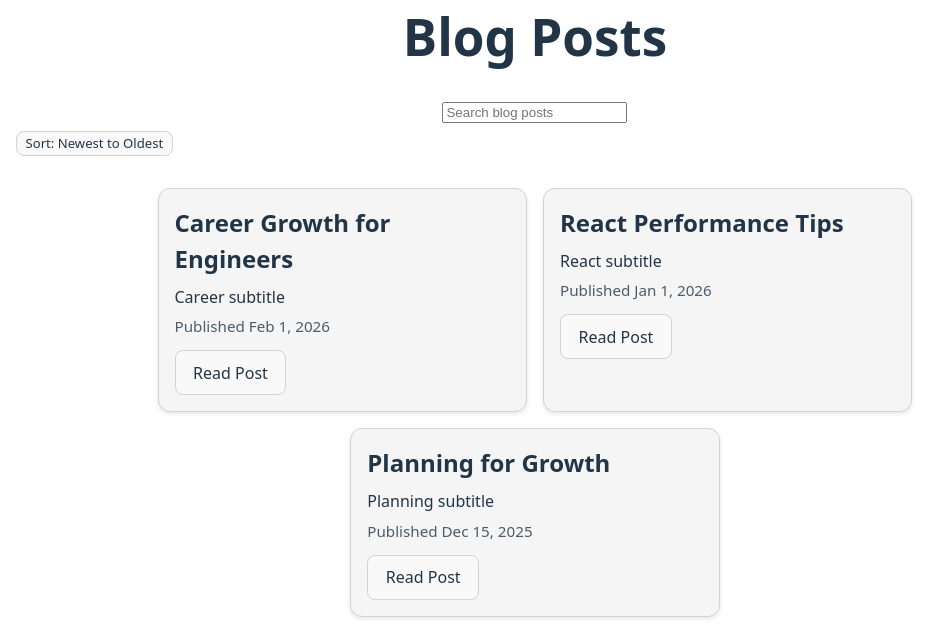
it: Blog › happy path: filters blog cards by title keyword
Type "react" into the search field labelled "Search blog posts" at [535, 112], box [442,102,628,123]
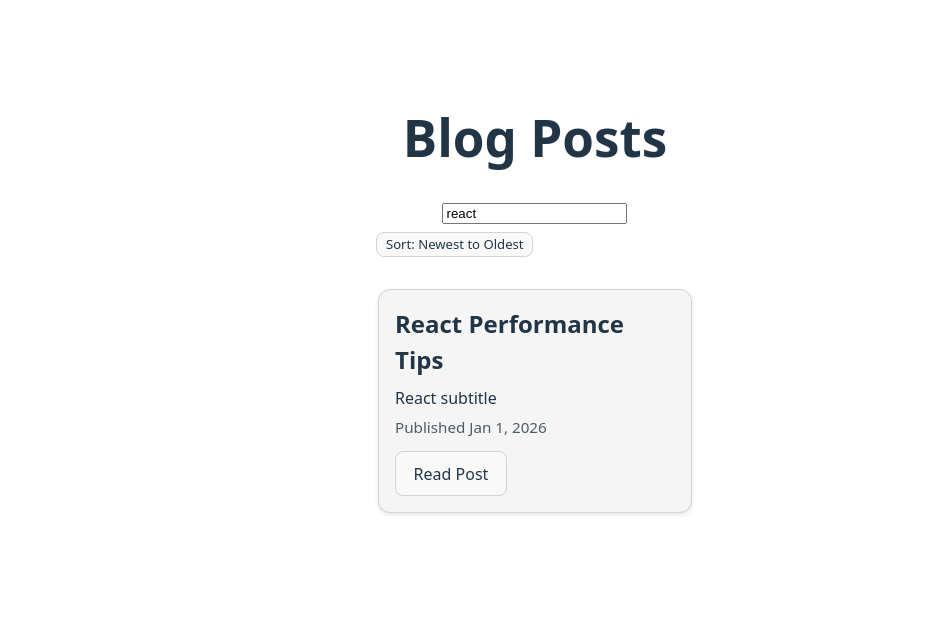
Expected: the heading "React Performance Tips" is shown, [395,307,624,376]
Expected: the heading "Career Growth for Engineers" is gone
